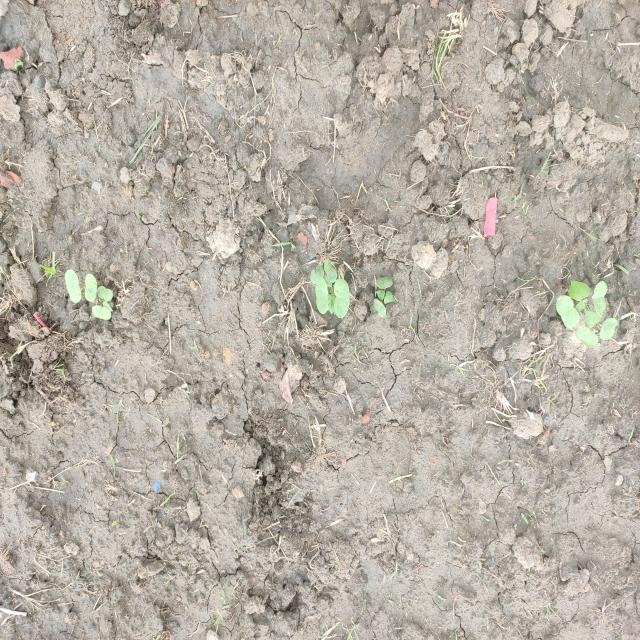seedling_s4: (556, 296, 580, 328), (64, 270, 82, 304), (334, 279, 349, 318), (315, 277, 329, 314), (592, 281, 607, 315), (568, 281, 591, 301), (575, 327, 598, 346), (600, 318, 617, 340), (85, 274, 98, 302), (584, 310, 601, 328), (324, 260, 337, 283), (92, 305, 111, 320), (310, 265, 324, 285), (373, 298, 386, 317), (97, 286, 113, 300), (376, 277, 392, 289), (384, 291, 395, 304), (328, 295, 335, 315), (376, 290, 385, 299)
